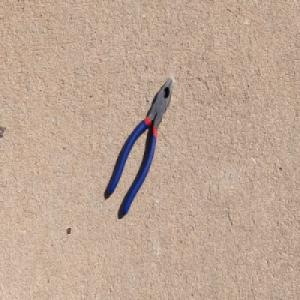Pliers: (106, 74, 175, 218)
